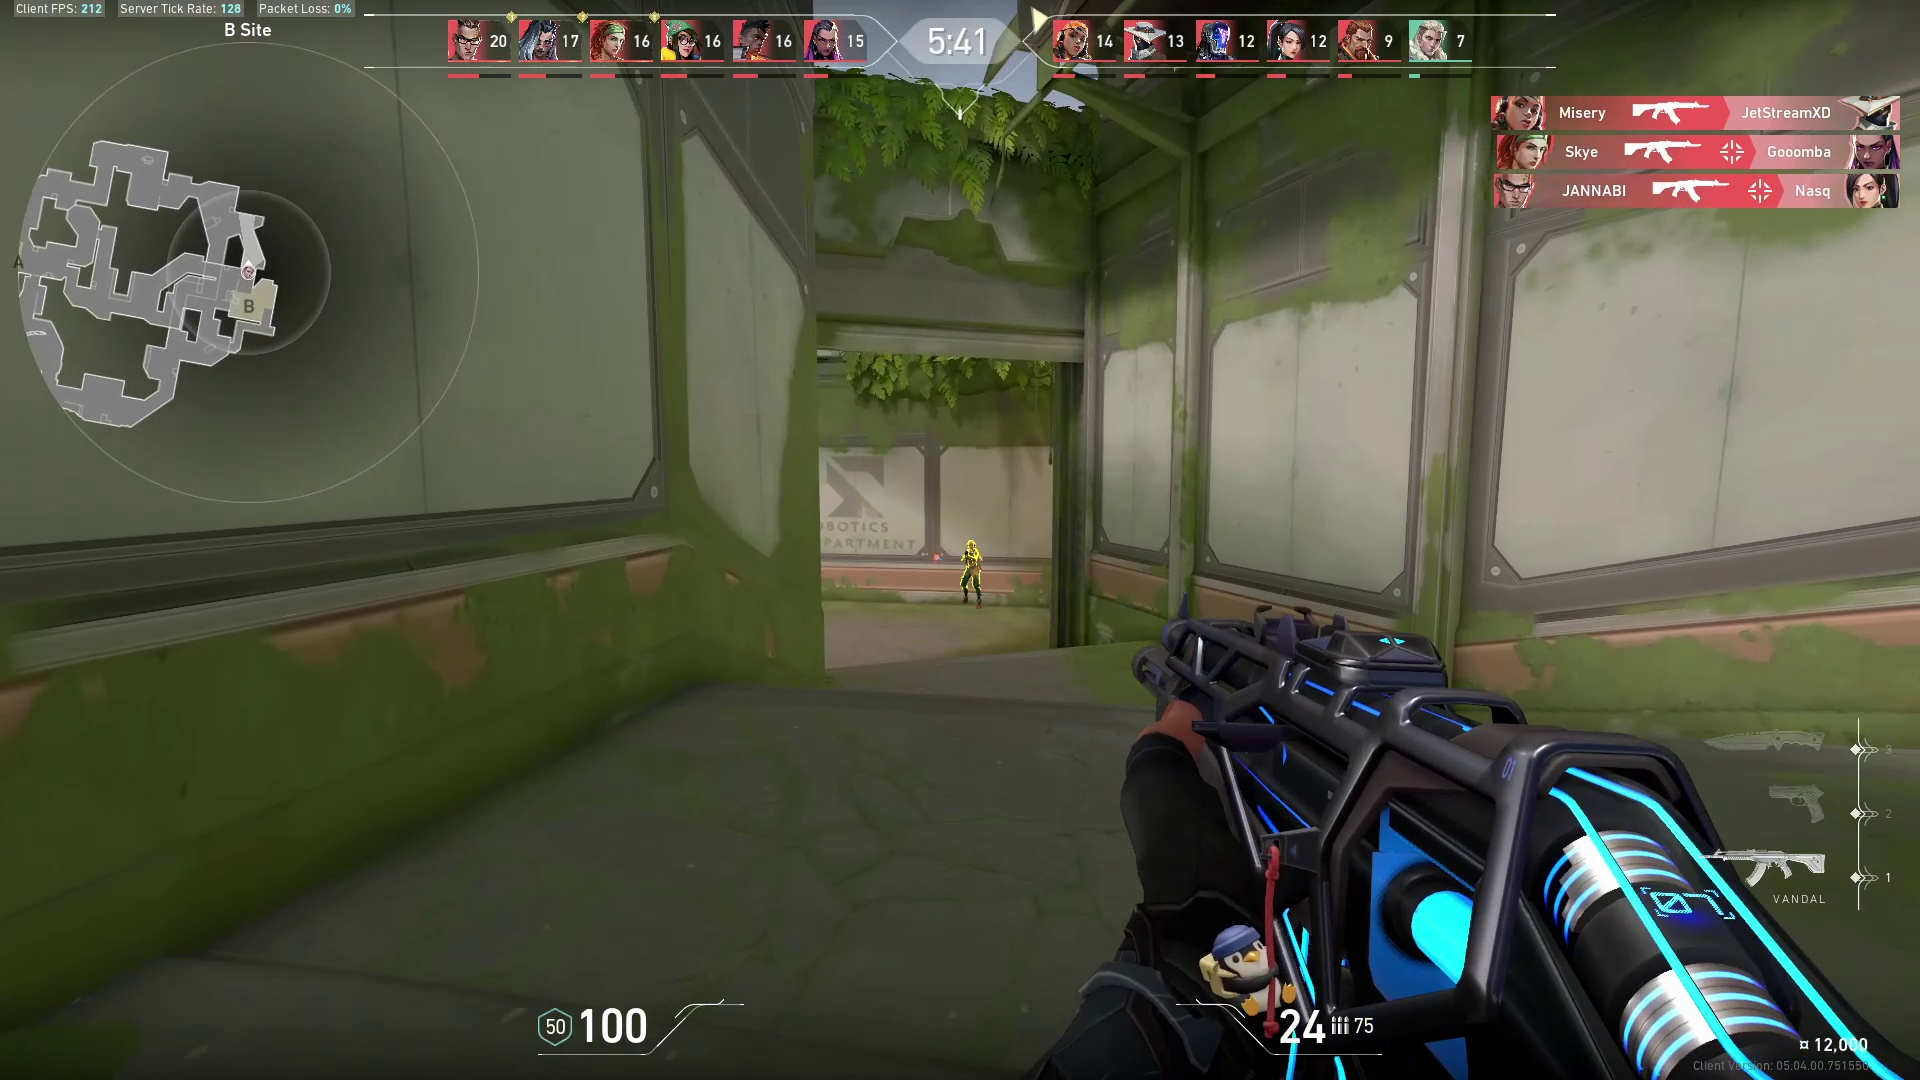enemy_body: (959, 551, 986, 611)
enemy_head: (965, 538, 977, 551)
